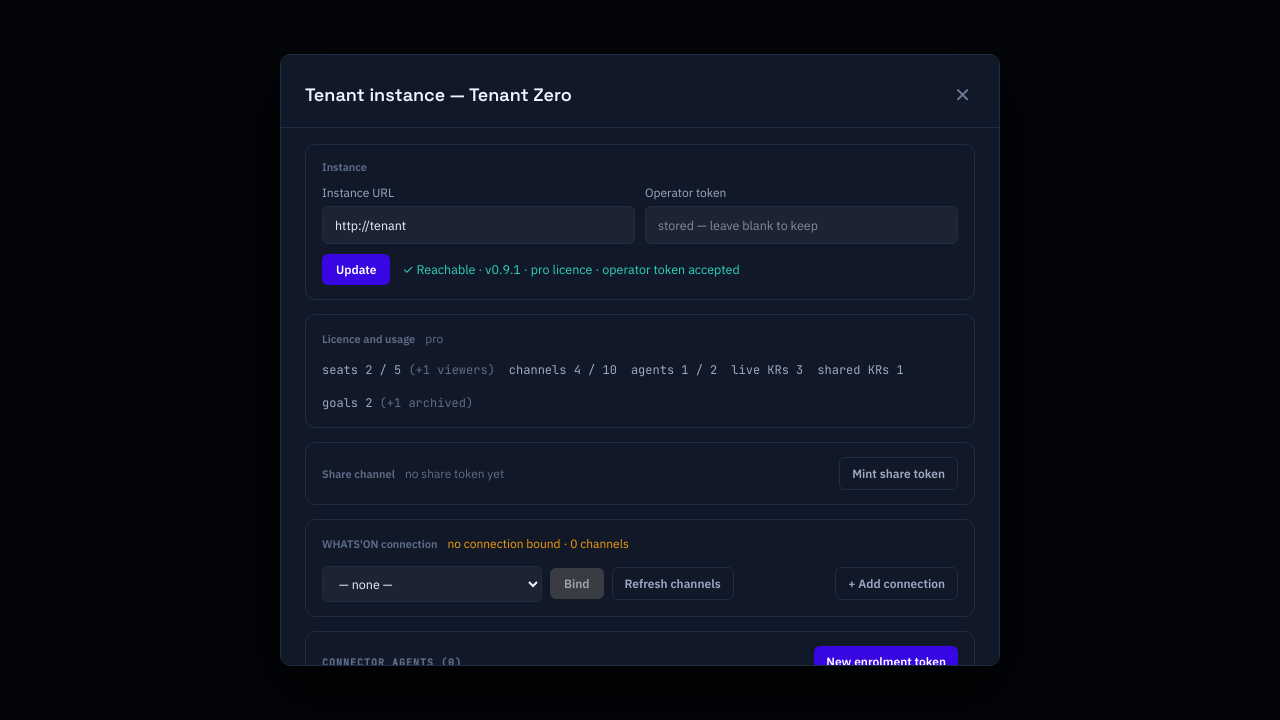
TenantModal › mints a share token and shows the env lines once
The image size is (1280, 720).
Expected: the text "✓ Reachable · v0.9.1 · pro licence · operator token accepted" is shown, [402, 261, 740, 277]
Step 1. Click the button "Mint share token" → (899, 474), box [839, 457, 958, 490]
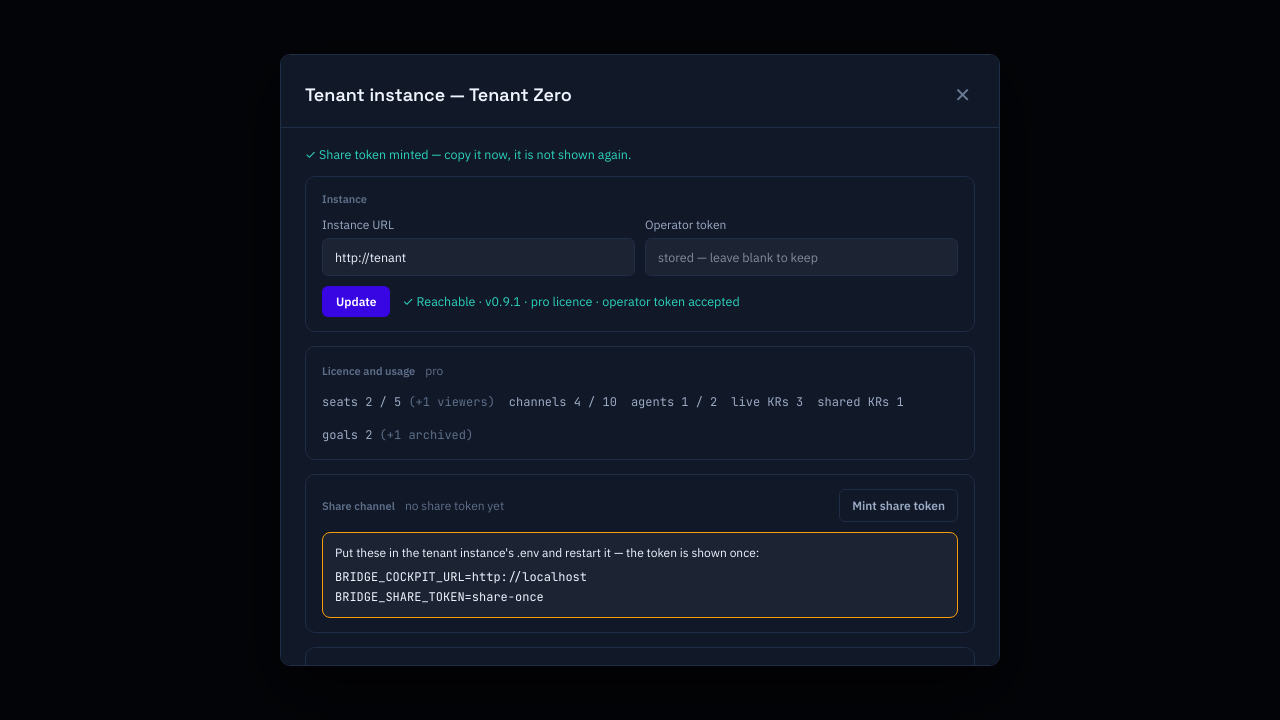
Now the text with test id "share-env" shows "BRIDGE_SHARE_TOKEN=share-once", box [335, 569, 587, 604]
